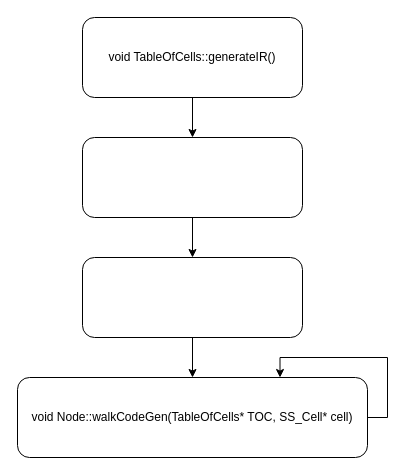
This 413x475 diagram has some shape labels left out. The centre of each missing label's shape, as x and y in pixels:
"llvm::Value* Node::codeGen(SS_Cell* cell)" belongs at point (192, 297).
"void SS_Cell::generateIR()" belongs at point (192, 177).
